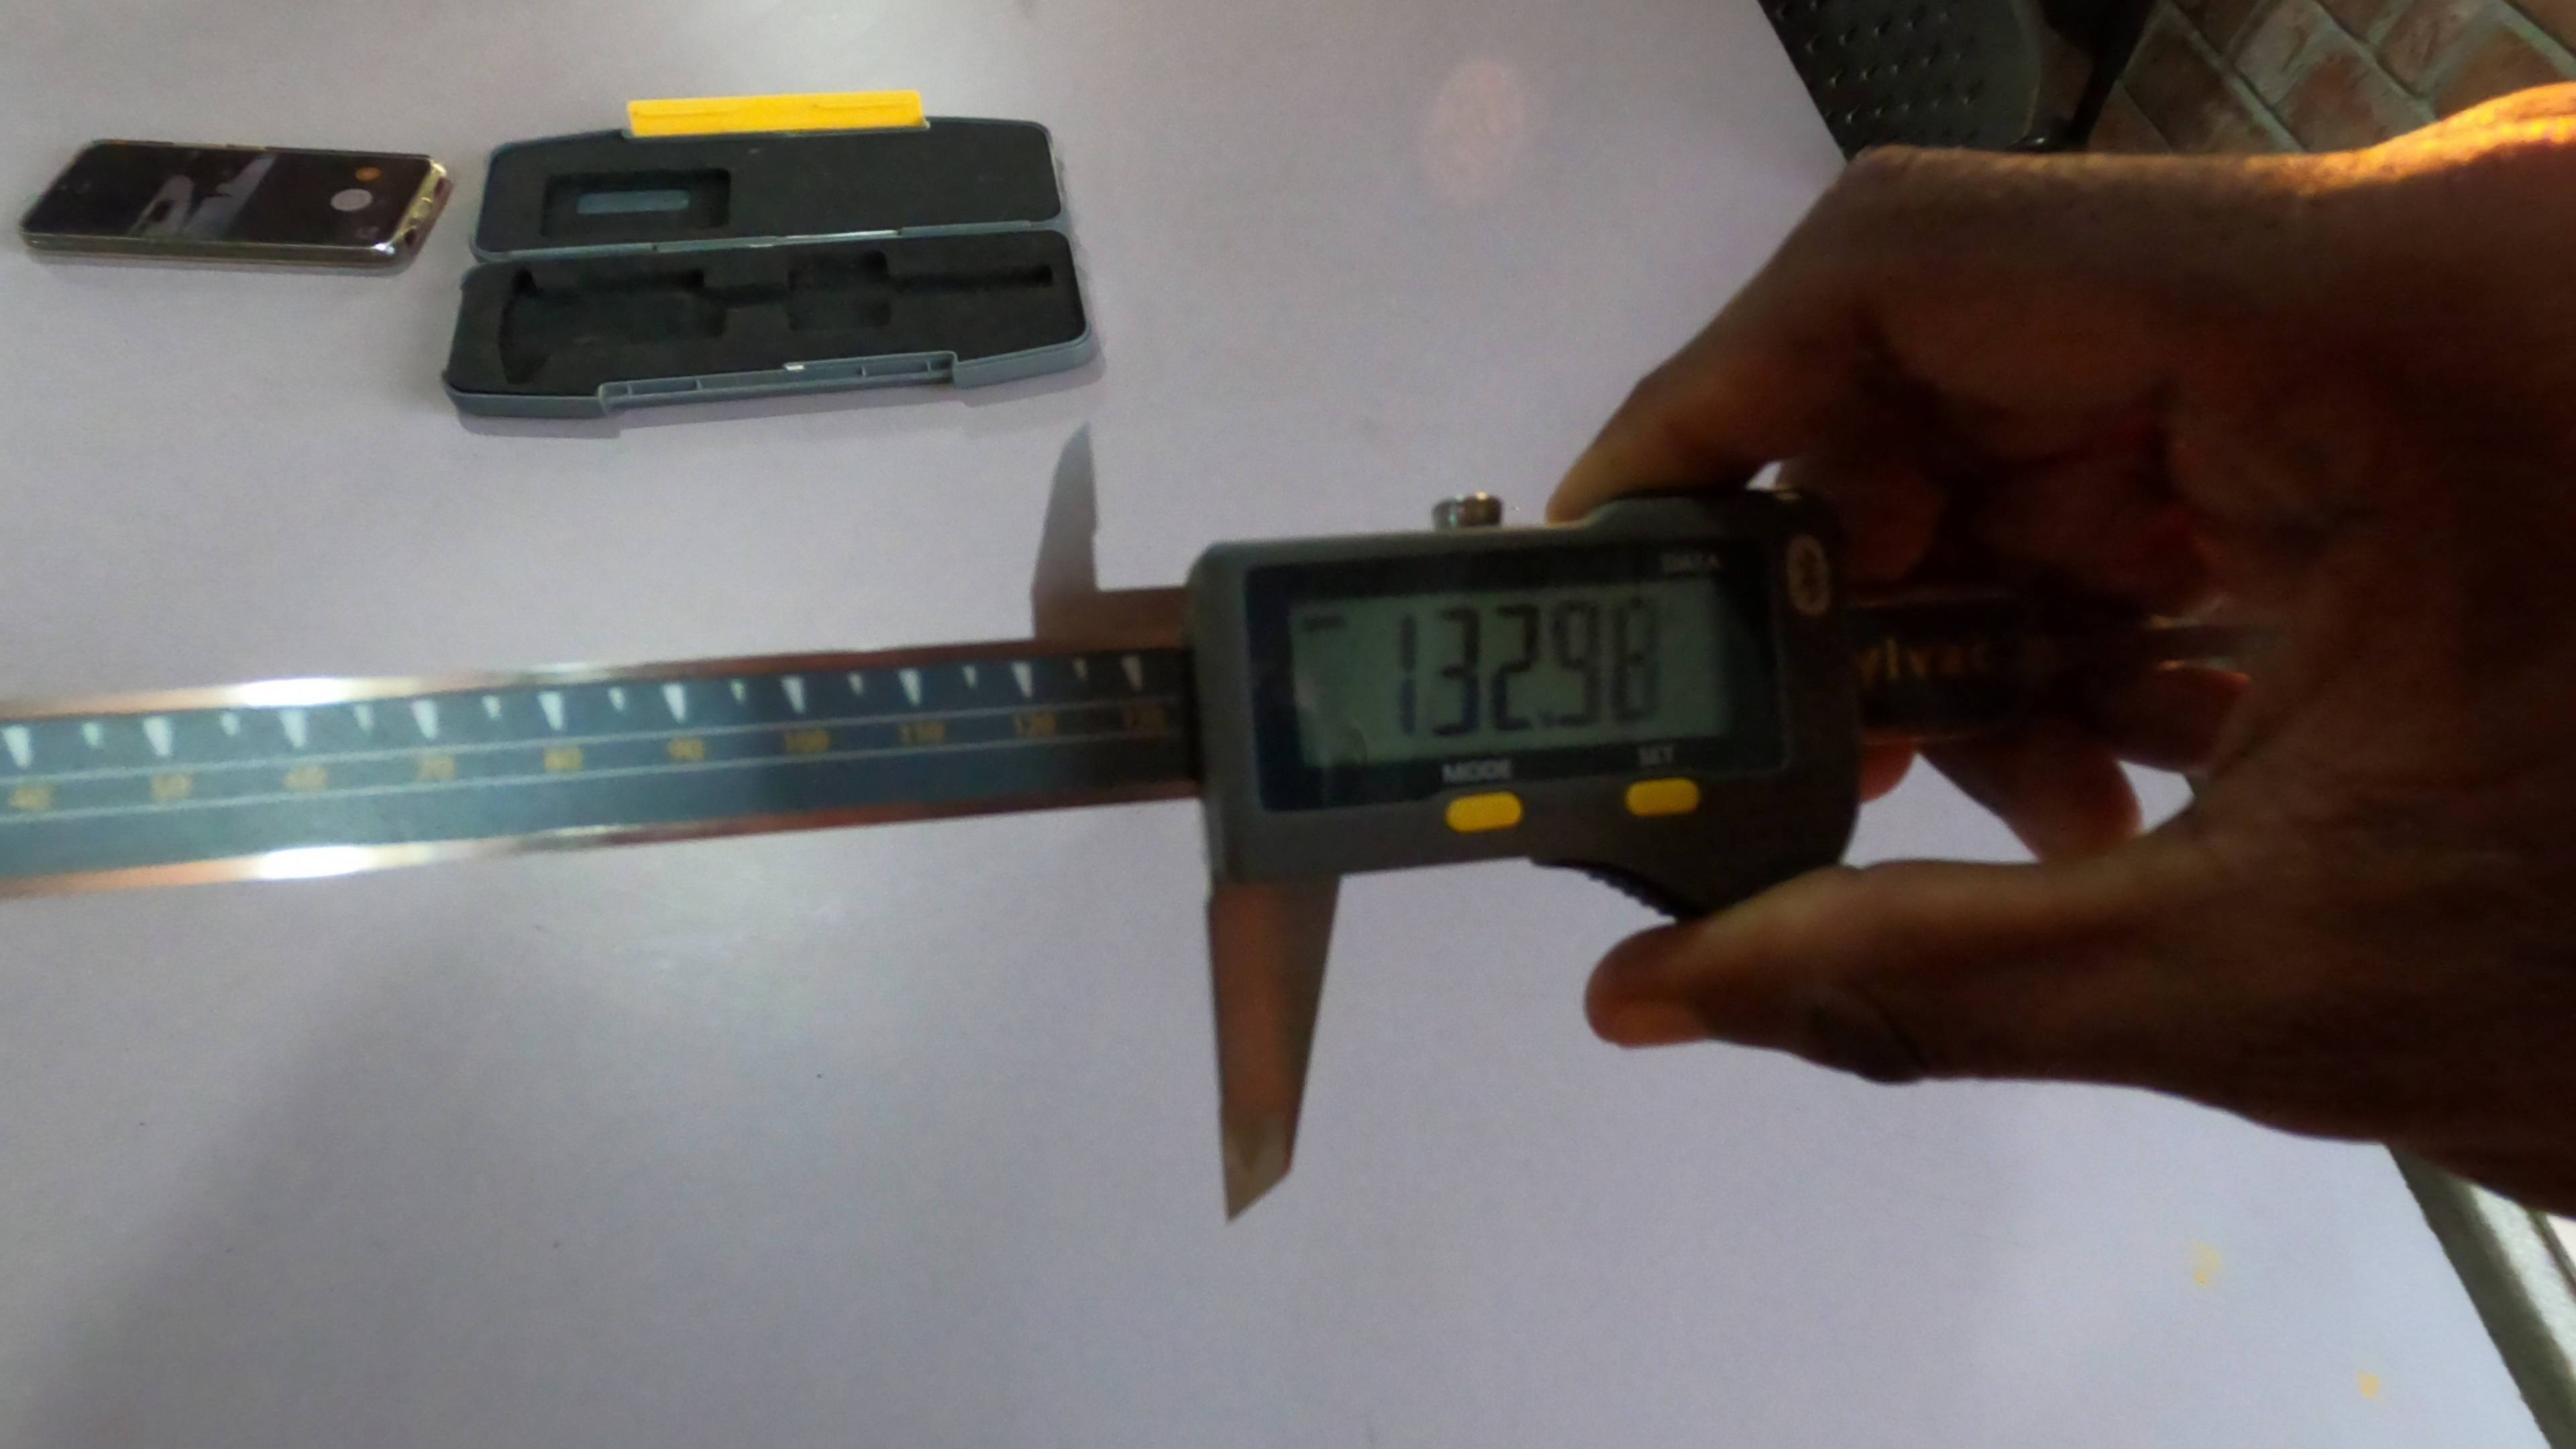vernier_caliper: (7, 441, 1859, 1276)
